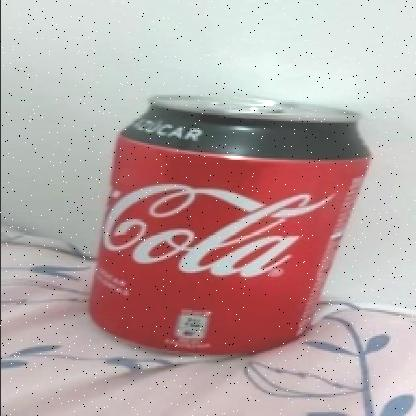Can: (78, 71, 378, 387)
